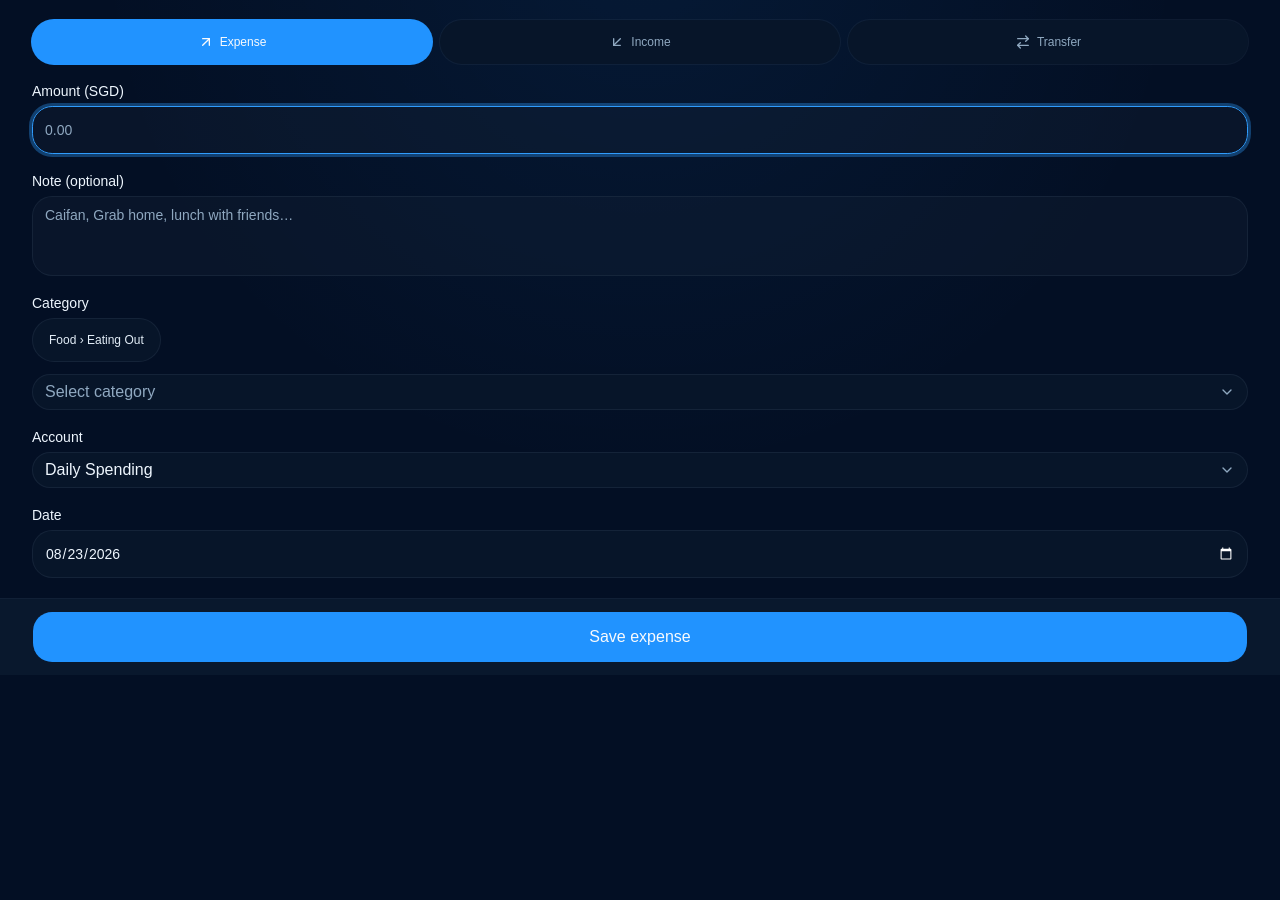
it: Add Transaction form › switches between Income and Transfer fields without hiding Note
Click the button "Income". click: (640, 42)
box: [440,20,840,64]
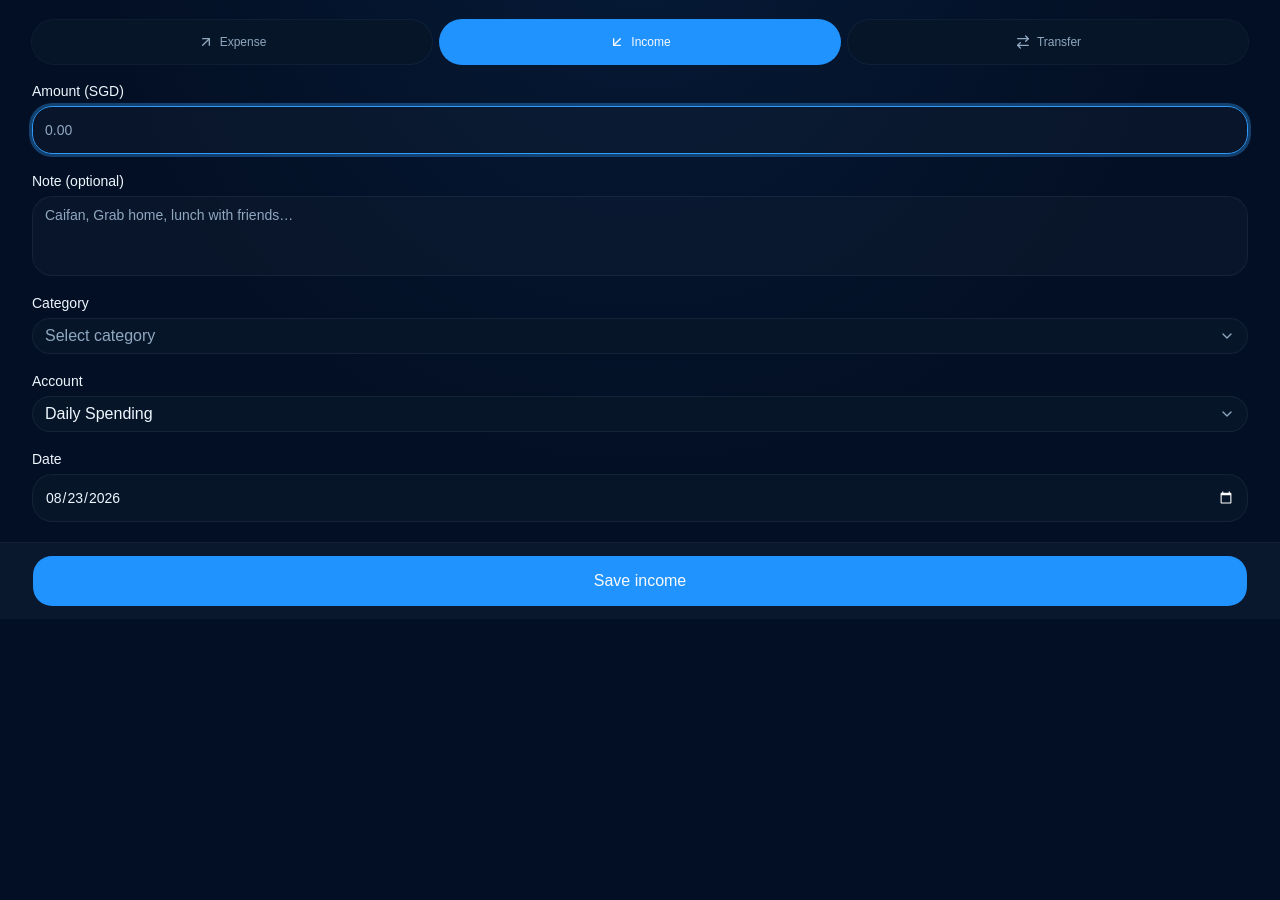
expect the dropdown labelled "category" is shown: met, box [32,318,1248,354]
expect the button "Income" is pressed: met, box [440,20,840,64]
Click the button "Transfer". click: (1048, 42)
box: [848,20,1248,64]
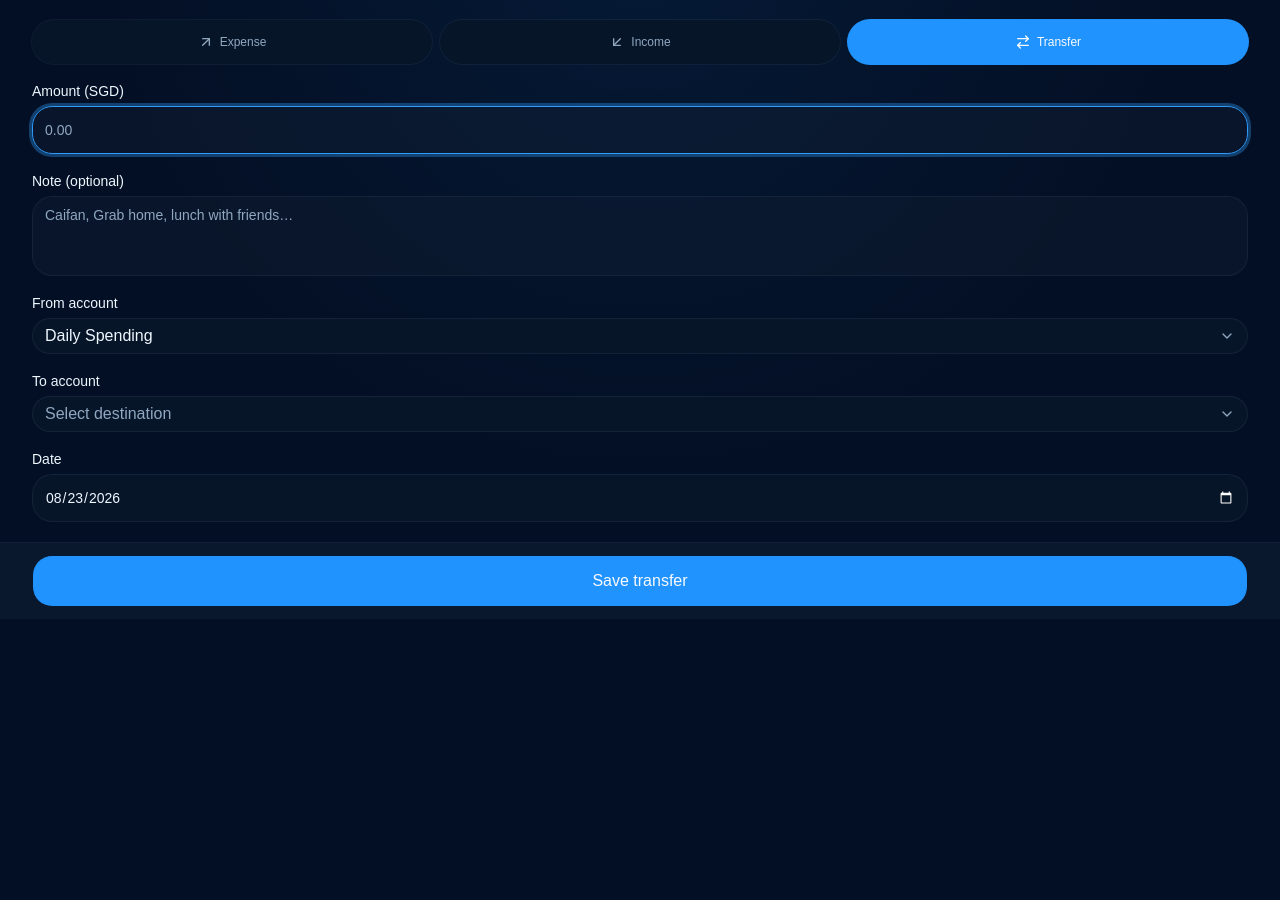
expect the dropdown named "From account" is shown: met, box [32,318,1248,354]
expect the label "Category" is gone: met
expect the dropdown named "To account" is shown: met, box [32,396,1248,432]
